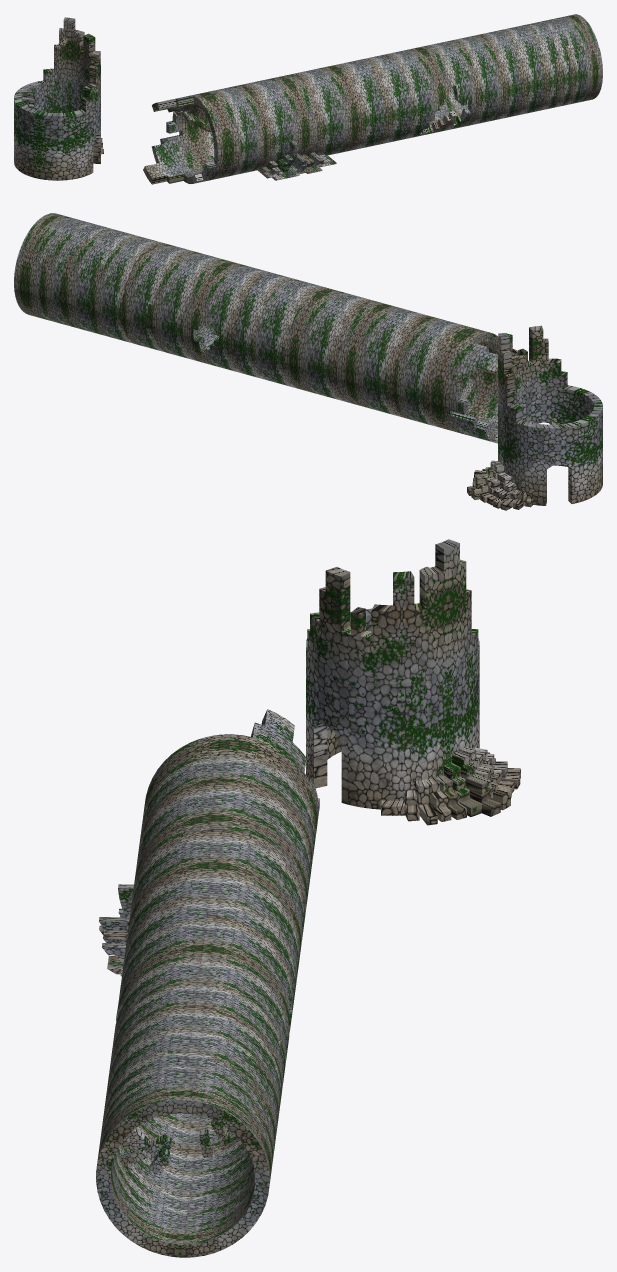
The model's file is RuinBreakTowerA.gltf.
The picture shows the model from 3 angles, top to bottom: view 1: azimuth 30°, elevation 25°; view 2: azimuth 150°, elevation 25°; view 3: azimuth 270°, elevation 25°; orthographic projection. The views are drawn at different scales.
Parts seen in each view (by area): view 1: polySurface2, polySurface1; view 2: polySurface2, polySurface1; view 3: polySurface2, polySurface1.
Part boxes in pixels (left/top/right/bottom): polySurface2: left=143, top=14, right=602, bottom=184; polySurface1: left=14, top=17, right=103, bottom=180; polySurface2: left=14, top=213, right=498, bottom=443; polySurface1: left=467, top=325, right=602, bottom=510; polySurface2: left=96, top=709, right=319, bottom=1257; polySurface1: left=306, top=539, right=520, bottom=825.
Bounding box in the file's own units: 239 × 61.5 × 85.76.
1 material, 1 textured.
